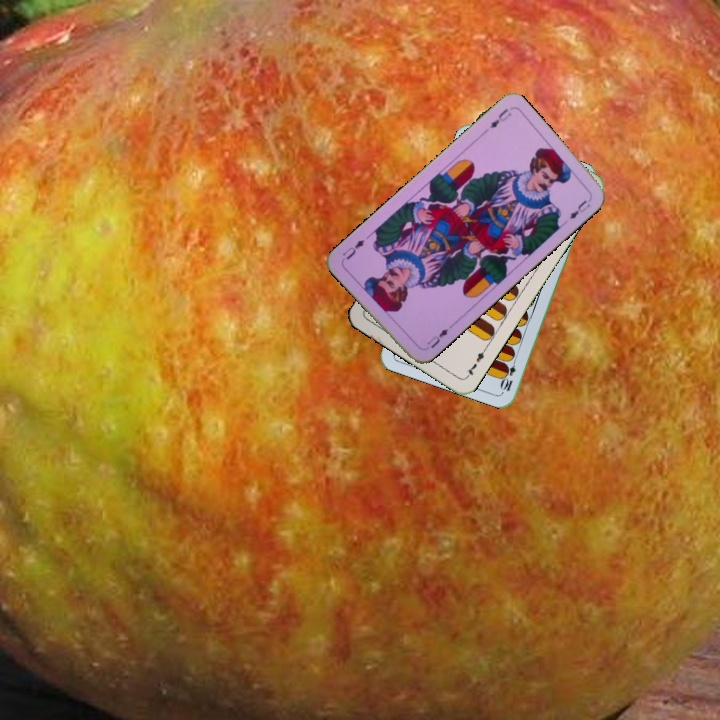E10: (498, 353, 519, 394)
E7: (461, 344, 489, 381)
EU: (423, 322, 454, 351), (485, 105, 514, 131)
